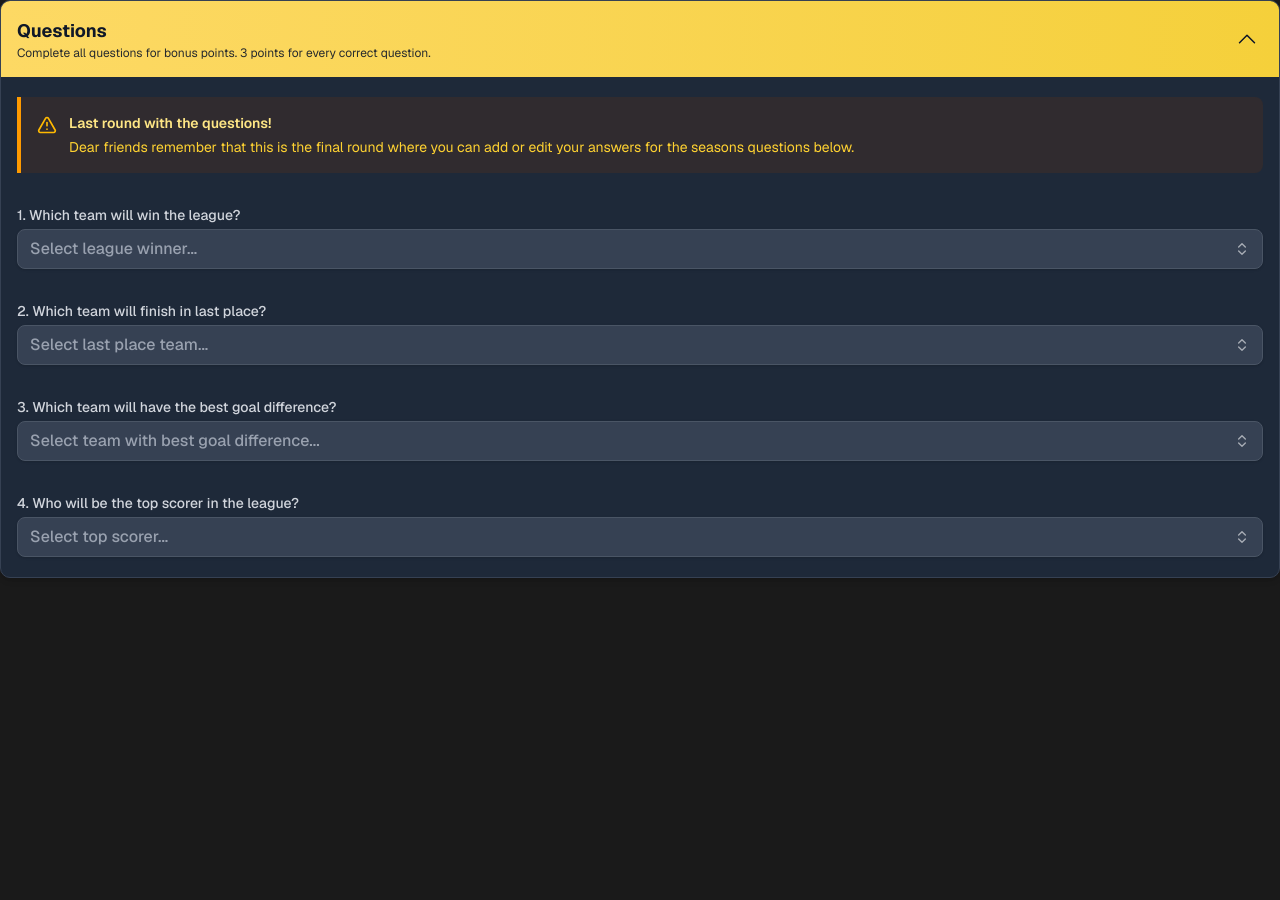
Test: Questionnaire Component with Combobox › selects a player from the top scorer dropdown
Click the dropdown named "Select a player for top-scorer" at (99, 536), box [17,517,1263,557]
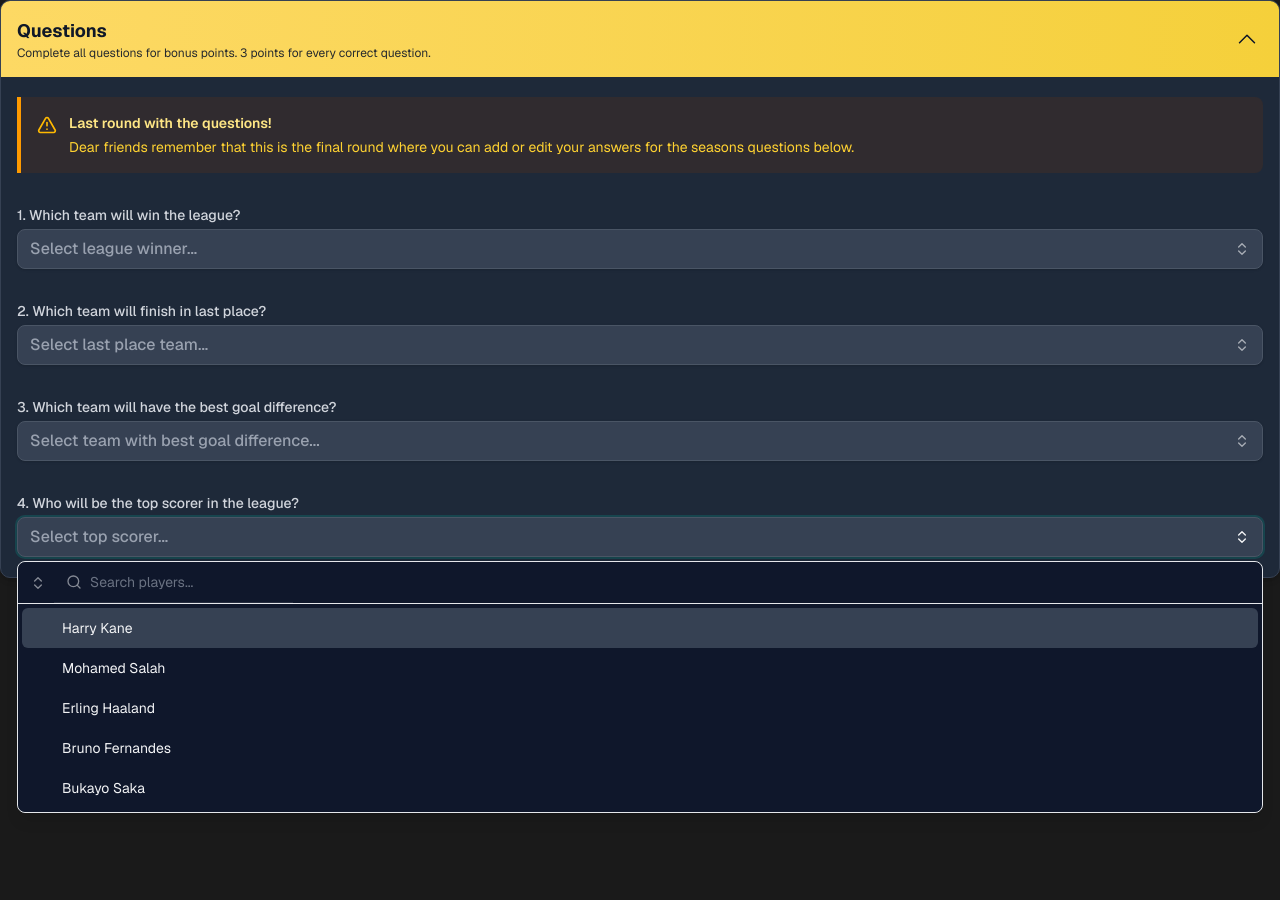
Result: the list is shown at [18,604,1262,812]
Click the option "Mohamed Salah" at (114, 668), box [62,659,166,677]
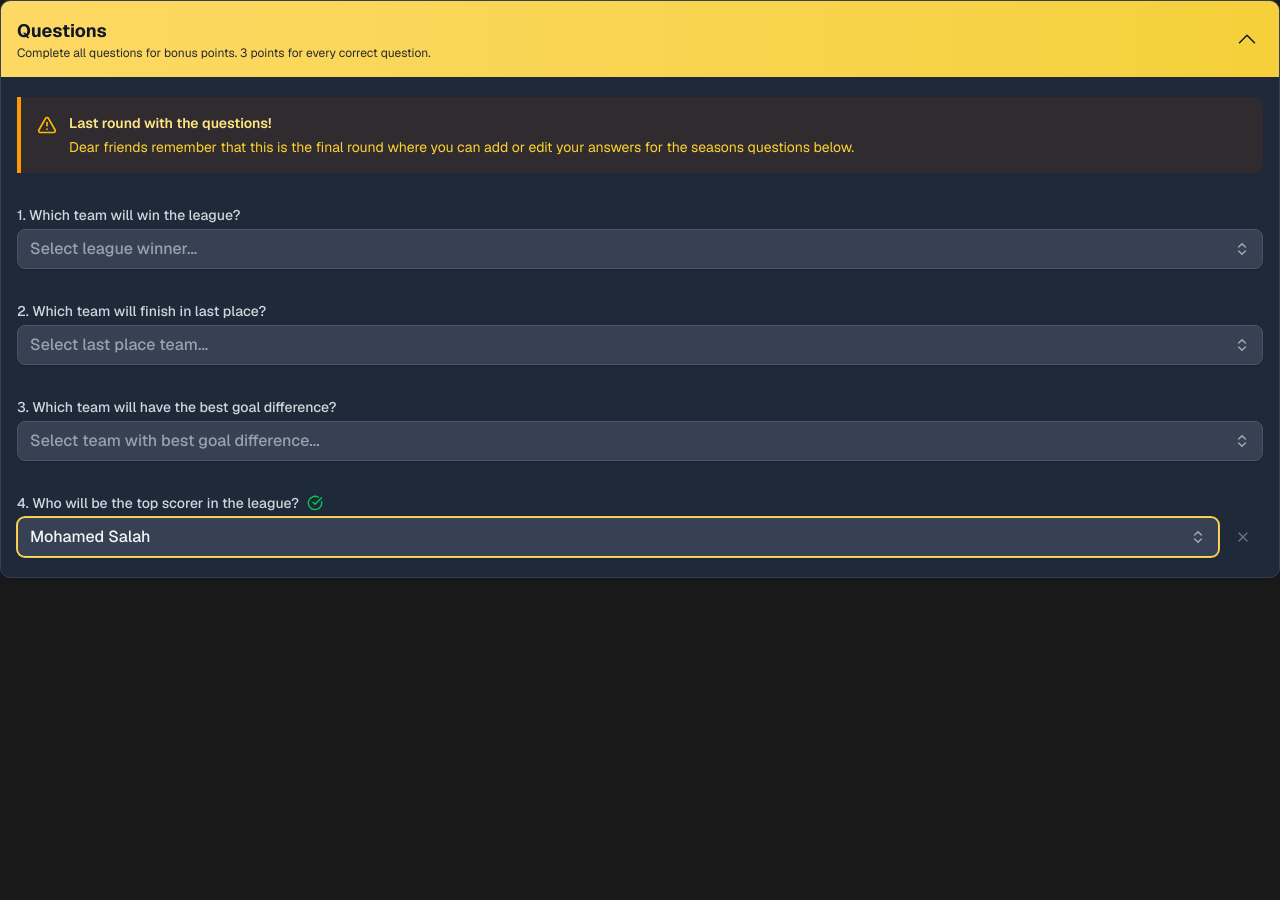
Result: the dropdown named "Select a player for top-scorer" reads "Mohamed Salah" at [17,517,1219,557]
